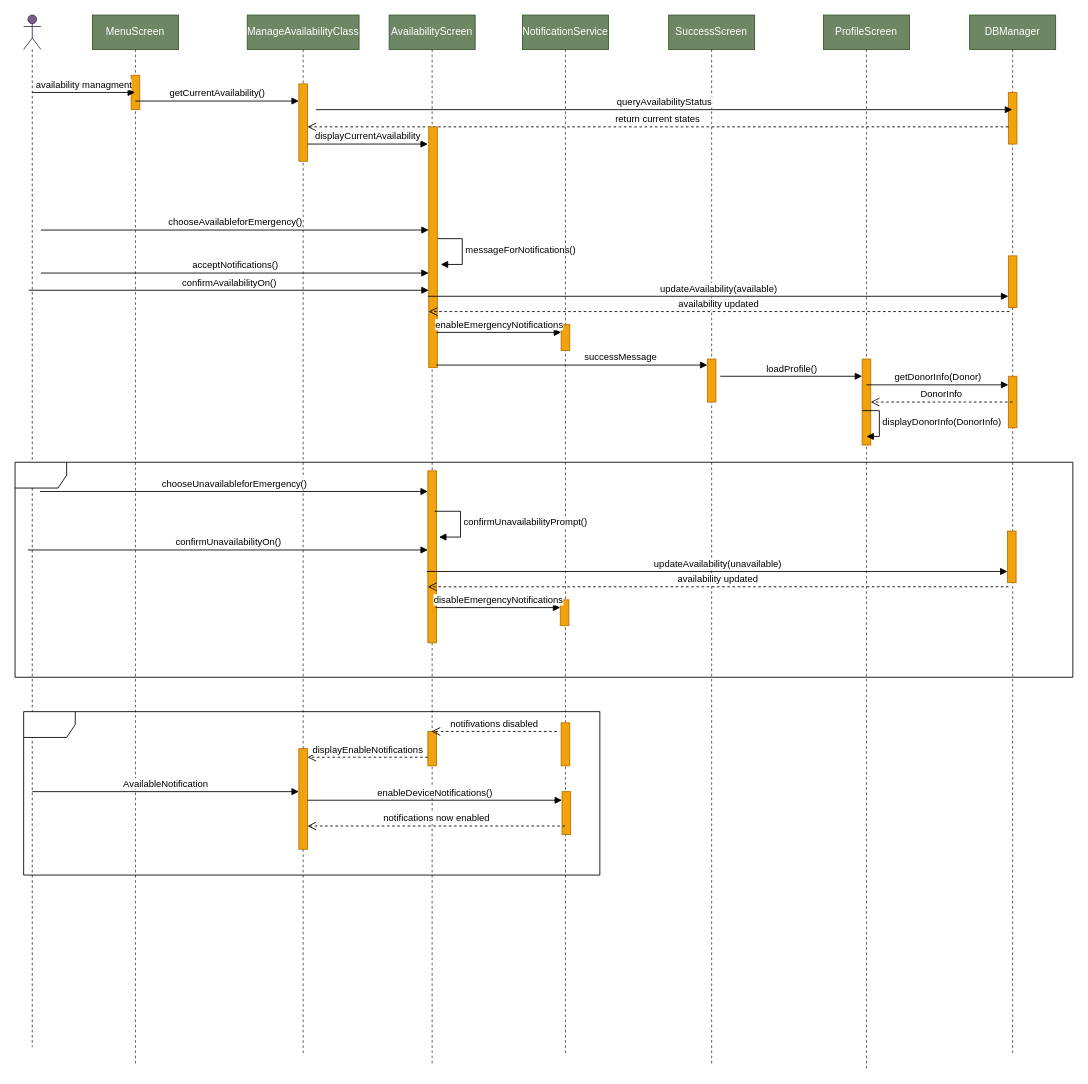
This 1088x1084 diagram has some shape labels left out. Each missing label, with the box of its shape:
alt1: (14, 461, 1073, 677)
alt2: (23, 711, 600, 875)
